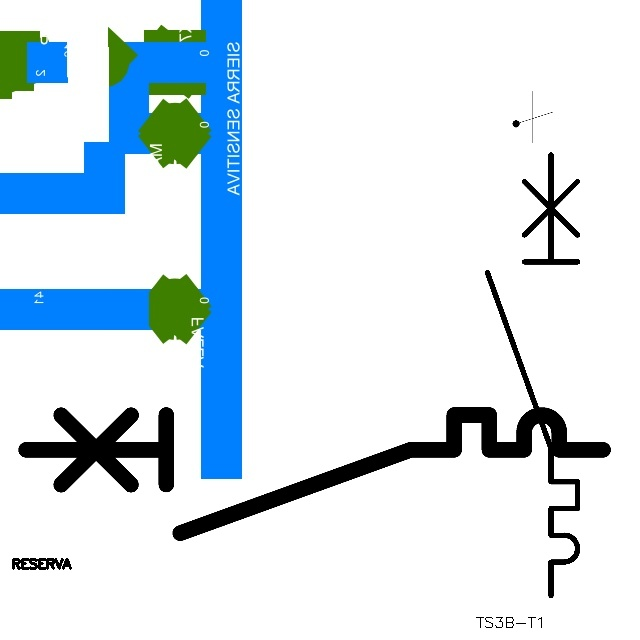interruptor_termomagnetico: (11, 400, 618, 548), (476, 143, 589, 606)
